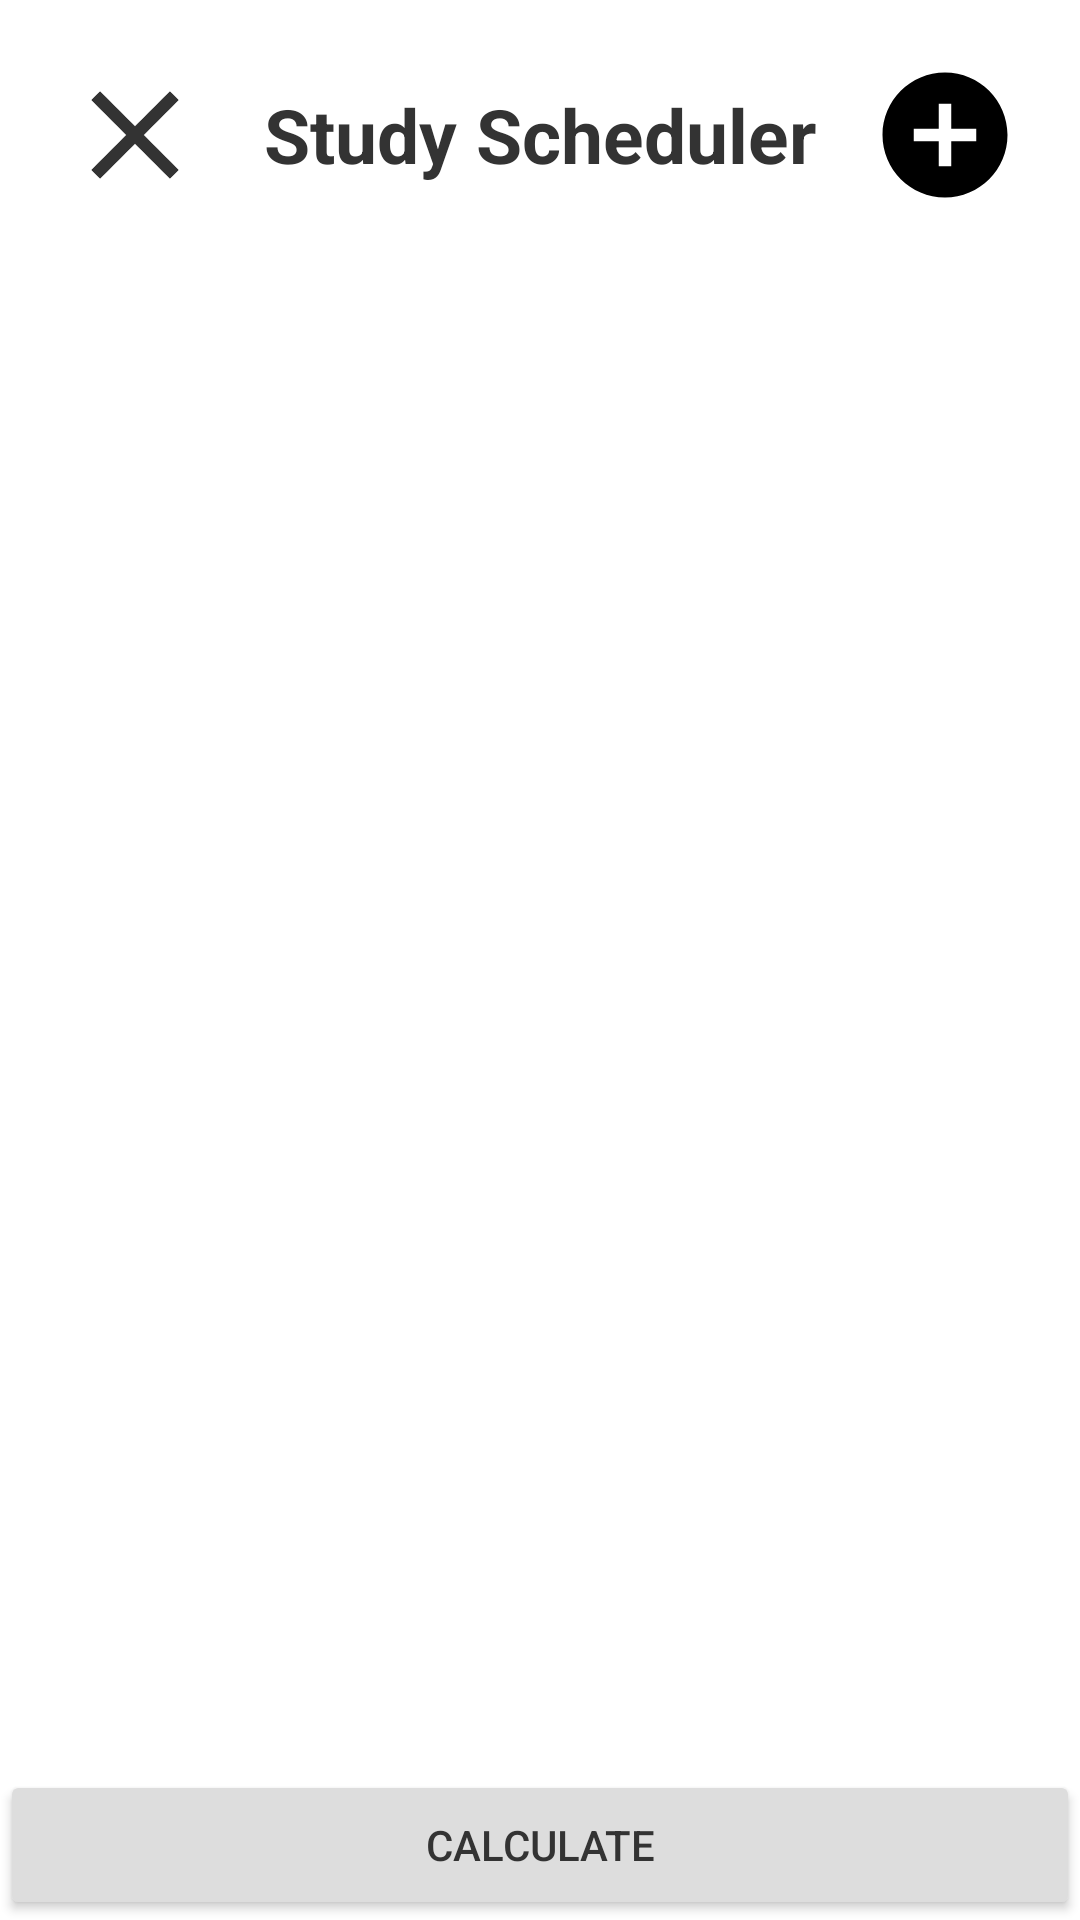

Point at icon controls on the screen. Image size 1080x1920, points as (x,y).
add: (945,135)
clear: (135,135)
